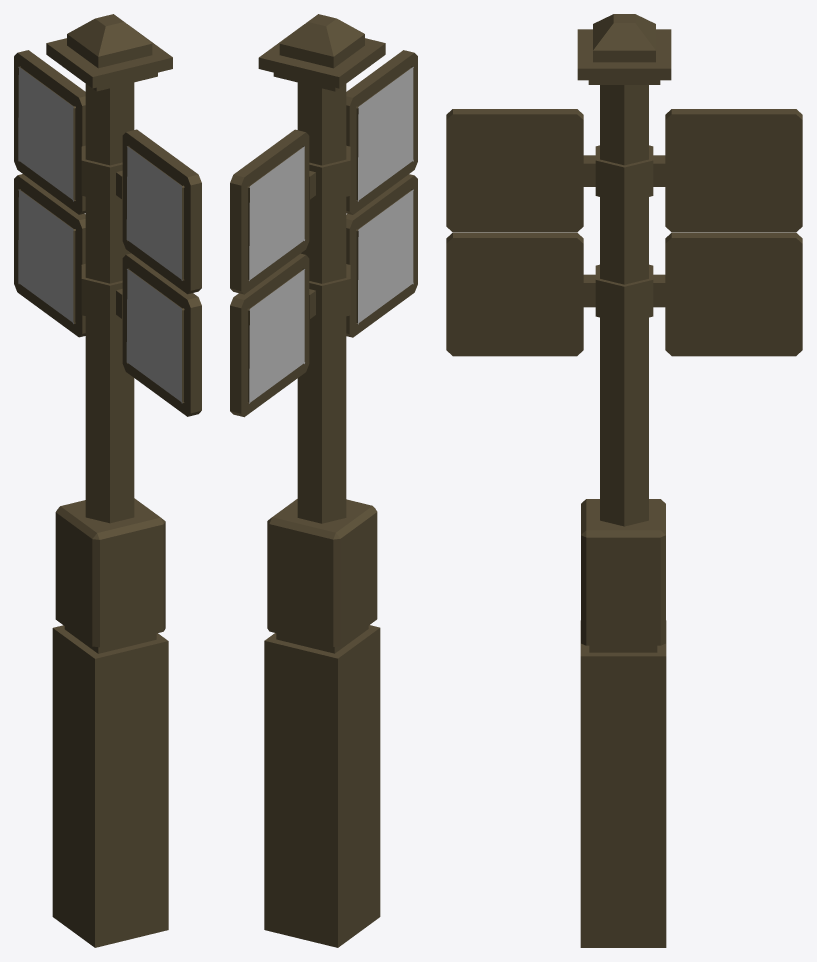
The model's file is Wooden_Sign.fbx.
3 renders of one model, left to right at view 1: azimuth 30°, elevation 25°; view 2: azimuth 150°, elevation 25°; view 3: azimuth 270°, elevation 25°, orthographic.
Parts seen in each view (by area): view 1: polySurface11; view 2: polySurface11; view 3: polySurface11.
Part boxes in pixels (bbox=[...]): polySurface11: bbox=[14, 14, 201, 947]; polySurface11: bbox=[230, 14, 417, 947]; polySurface11: bbox=[446, 14, 802, 947].
Bounding box in the file's own units: 0.11 × 1.18 × 0.4181.
